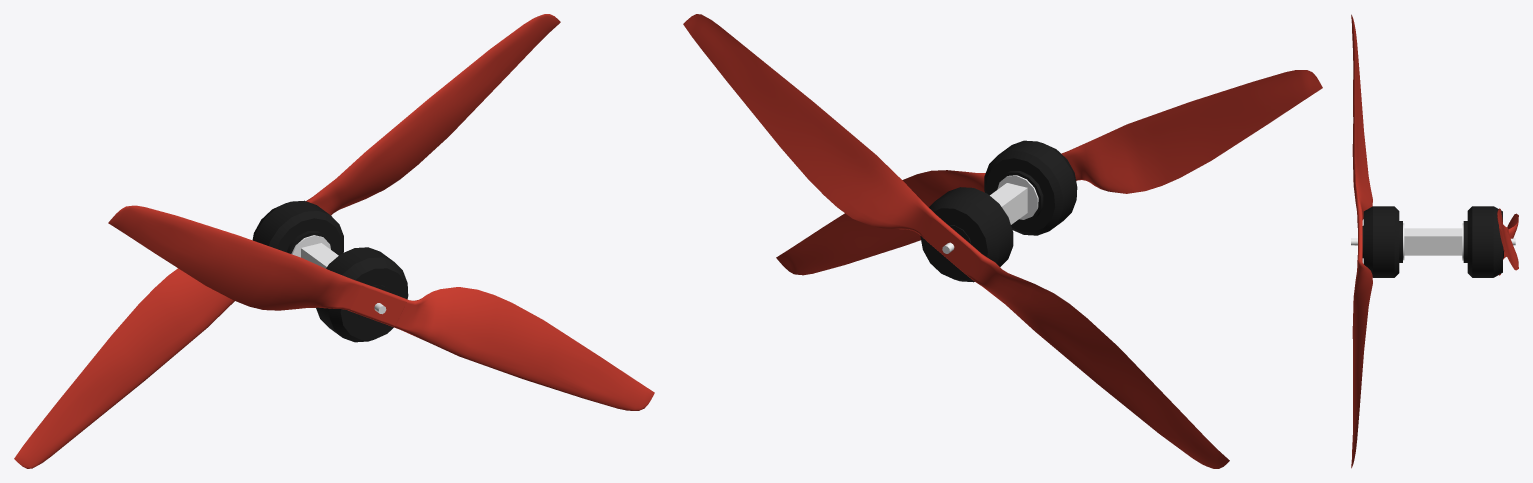
Rendered from Motors_Fwd_R.obj.
3 views of the same model, side by side, from view 1: azimuth 30°, elevation 25°; view 2: azimuth 150°, elevation 25°; view 3: azimuth 270°, elevation 25° (orthographic). The views are drawn at different scales.
Visible parts, largest first — view 1: Motors_Fwd_R; view 2: Motors_Fwd_R; view 3: Motors_Fwd_R.
Boxes of the visible parts, x1,y1,x2,y2 form: Motors_Fwd_R: (14, 14, 654, 468); Motors_Fwd_R: (683, 14, 1322, 468); Motors_Fwd_R: (1351, 14, 1518, 468).
Bounding box in the file's own units: 1055 × 609 × 359.
